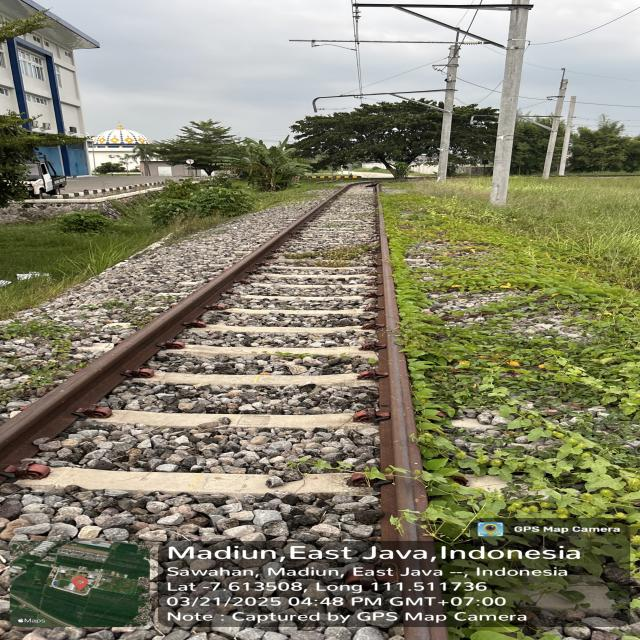rail-detection: (0, 183, 370, 467), (377, 200, 448, 640)
